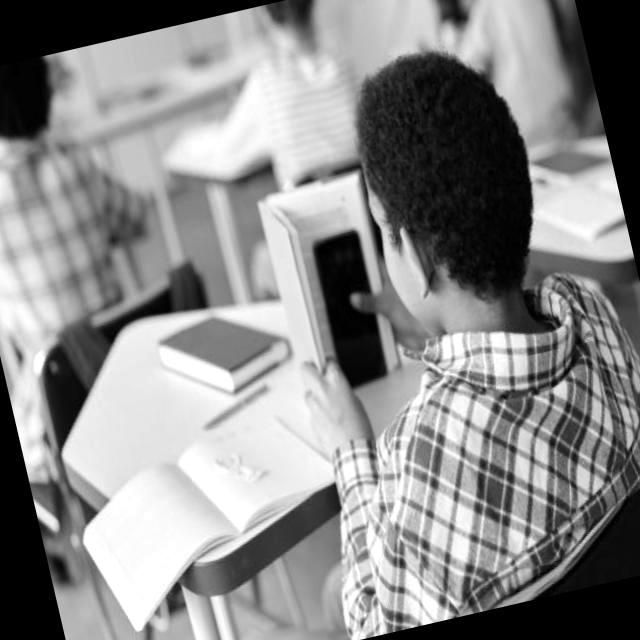phone: (255, 168, 408, 400), (308, 225, 394, 388)
